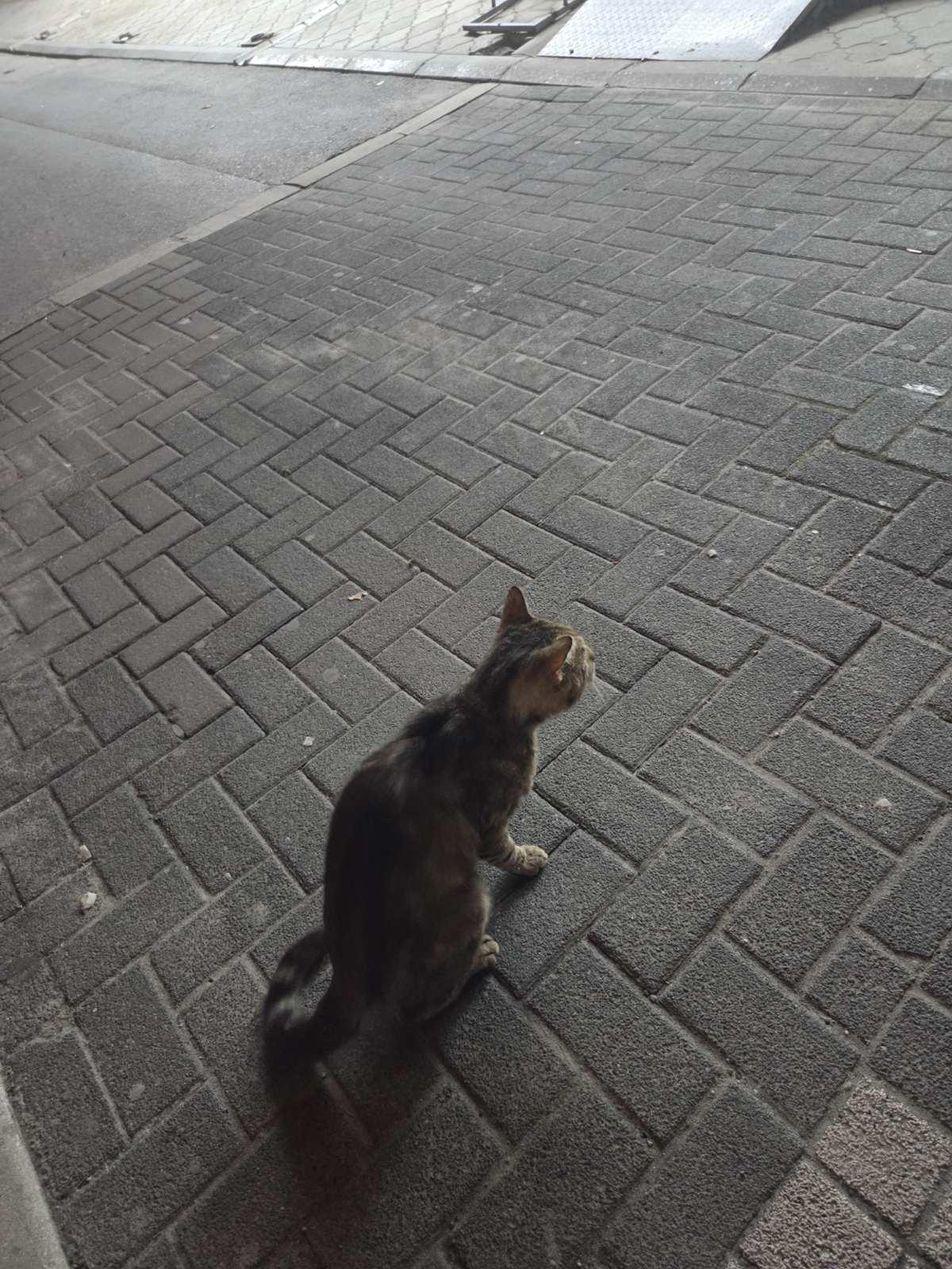macka: (258, 584, 596, 1069)
